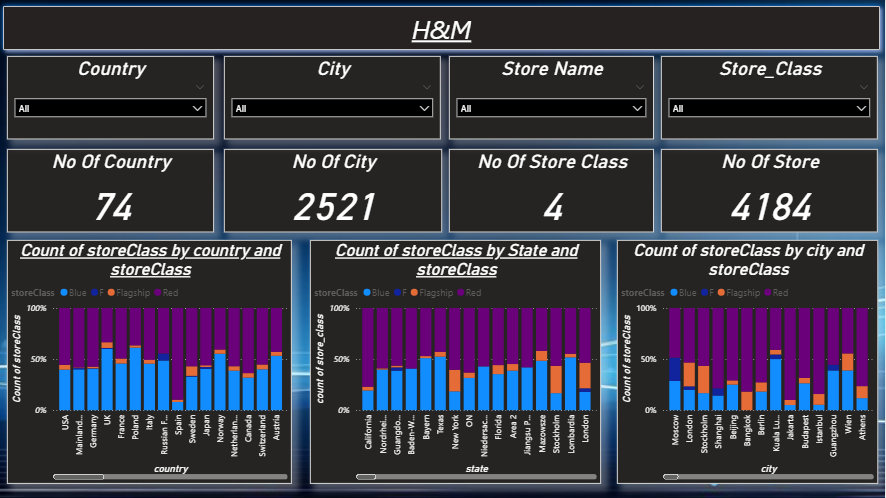

The dashboard page shown, as its layout file describes it:
{"tool":"powerbi","page":{"name":"Page 1","canvas":[1280,720],"ordinal":0},"visuals":[{"type":"shape","box":[0,0,1280.2,80.6],"z":0},{"type":"card","title":"Count of country","fields":{"Values":["Count(HM_all_stores.country)"]},"box":[30.2,110.9,312.5,216],"z":1000},{"type":"card","title":"Count of city","fields":{"Values":["Count(HM_all_stores.city)"]},"box":[342.7,110.9,298.1,216],"z":2000},{"type":"card","title":"Count of store_class","fields":{"Values":["Count(HM_all_stores.storeClass)"]},"box":[640.8,110.9,305.3,216],"z":3000},{"type":"card","title":"Count of store","fields":{"Values":["Count(HM_all_stores.name)"]},"box":[946.1,110.9,289.4,216],"z":4000},{"type":"hundredPercentStackedColumnChart","fields":{"Category":["HM_all_stores.country"],"Series":["HM_all_stores.storeClass"],"Y":["CountNonNull(HM_all_stores.storeClass)"]},"box":[30.2,326.9,410.4,313.9],"z":5000},{"type":"hundredPercentStackedColumnChart","fields":{"Category":["HM_all_stores.city"],"Series":["HM_all_stores.storeClass"],"Y":["CountNonNull(HM_all_stores.storeClass)"]},"box":[859.7,326.9,375.8,313.9],"z":6000},{"type":"hundredPercentStackedColumnChart","title":"Count of storeClass by State and storeClass","fields":{"Category":["HM_all_stores.State_filter"],"Series":["HM_all_stores.storeClass"],"Y":["CountNonNull(HM_all_stores.storeClass)"]},"box":[440.6,326.9,419,313.9],"z":7000}]}

Visuals, with their boxes in screenshot pixels (x1, y1, x2, y2), scaled from the page's 1280x720 canvas onto the 886x498 screenshot:
shape: <box>0,0,885,56</box>
"Count of country" card: <box>21,77,237,226</box>
"Count of city" card: <box>237,77,444,226</box>
"Count of store_class" card: <box>444,77,655,226</box>
"Count of store" card: <box>655,77,855,226</box>
hundredPercentStackedColumnChart - HM_all_stores.country x HM_all_stores.storeClass: <box>21,226,305,443</box>
hundredPercentStackedColumnChart - HM_all_stores.city x HM_all_stores.storeClass: <box>595,226,855,443</box>
"Count of storeClass by State and storeClass" hundredPercentStackedColumnChart: <box>305,226,595,443</box>
